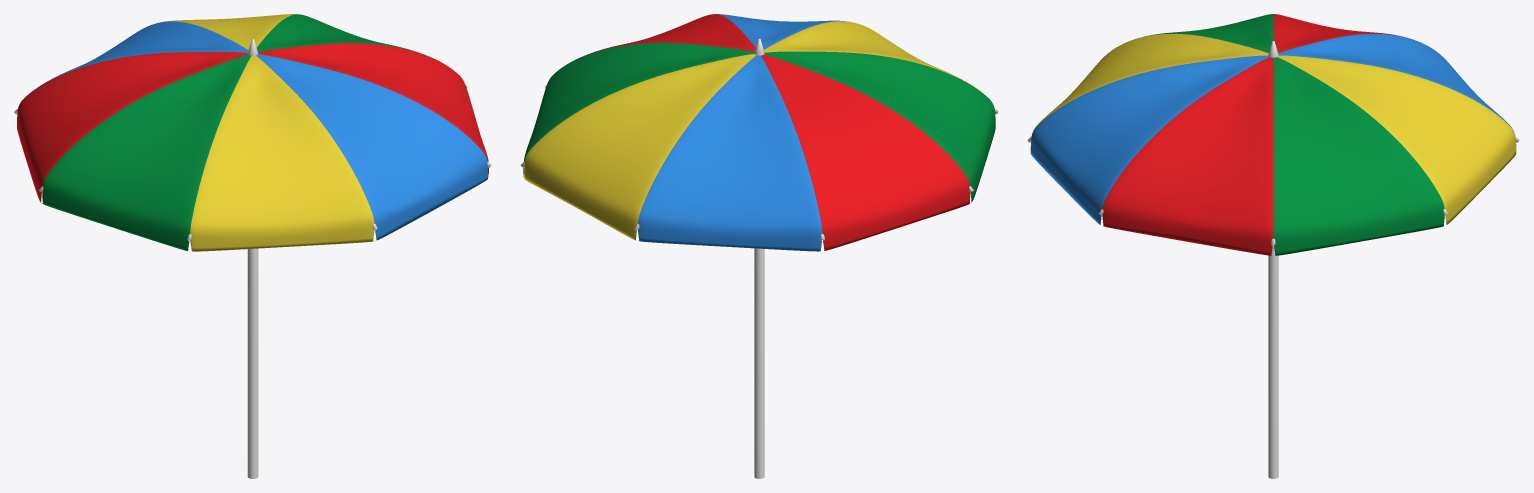
File: UmbrellaModel.fbx
The picture shows the model from 3 angles, left to right: view 1: azimuth 30°, elevation 25°; view 2: azimuth 150°, elevation 25°; view 3: azimuth 270°, elevation 25°; orthographic projection.
Visible parts, largest first — view 1: Sphere, Cylinder; view 2: Sphere, Cylinder; view 3: Sphere, Cylinder.
Part boxes in pixels (<box>): Sphere: <box>17,14,488,251</box>; Cylinder: <box>247,39,258,478</box>; Sphere: <box>523,14,995,251</box>; Cylinder: <box>754,38,764,478</box>; Sphere: <box>1030,14,1516,255</box>; Cylinder: <box>1268,40,1278,478</box>.
Size of the model in its own units: 186 by 181 by 186.
